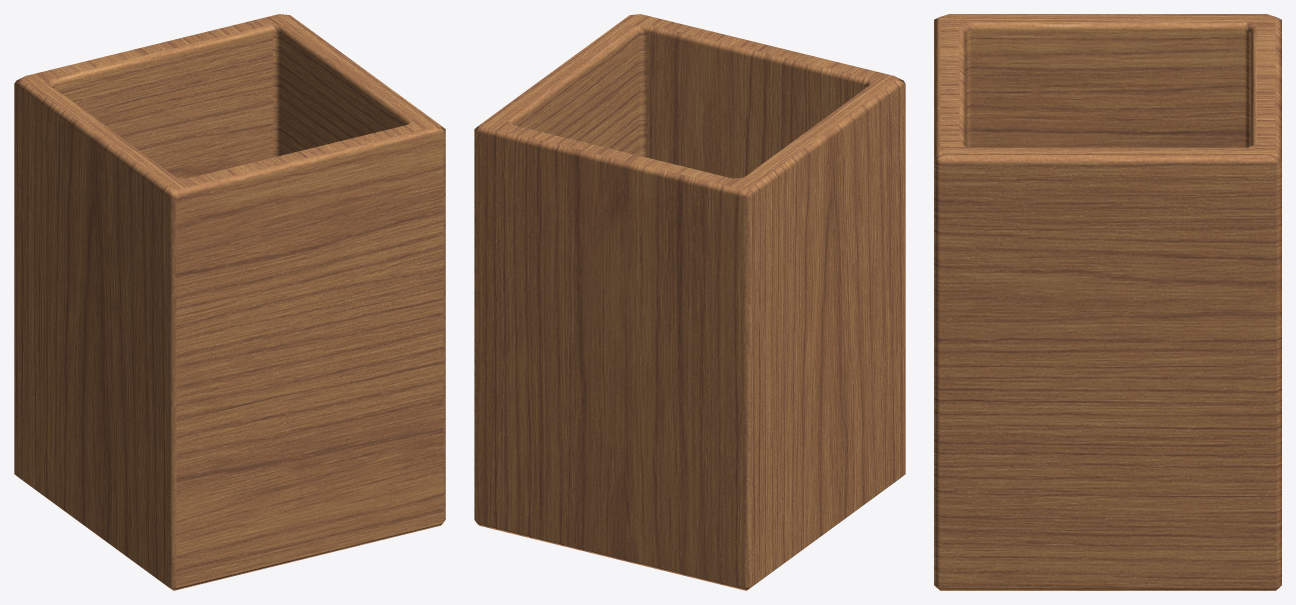
The model's file is SM_penholder_01.fbx.
3 renders of one model, left to right at view 1: azimuth 30°, elevation 25°; view 2: azimuth 150°, elevation 25°; view 3: azimuth 270°, elevation 25°, orthographic. The views are drawn at different scales.
Visible parts, largest first — view 1: penholder02; view 2: penholder02; view 3: penholder02.
Boxes of the visible parts, x1,y1,x2,y2 form: penholder02: [14, 14, 445, 590]; penholder02: [474, 14, 905, 590]; penholder02: [934, 14, 1281, 590].
Size of the model in its own units: 2.75 by 3.8 by 2.75.
1 material, 1 textured.
